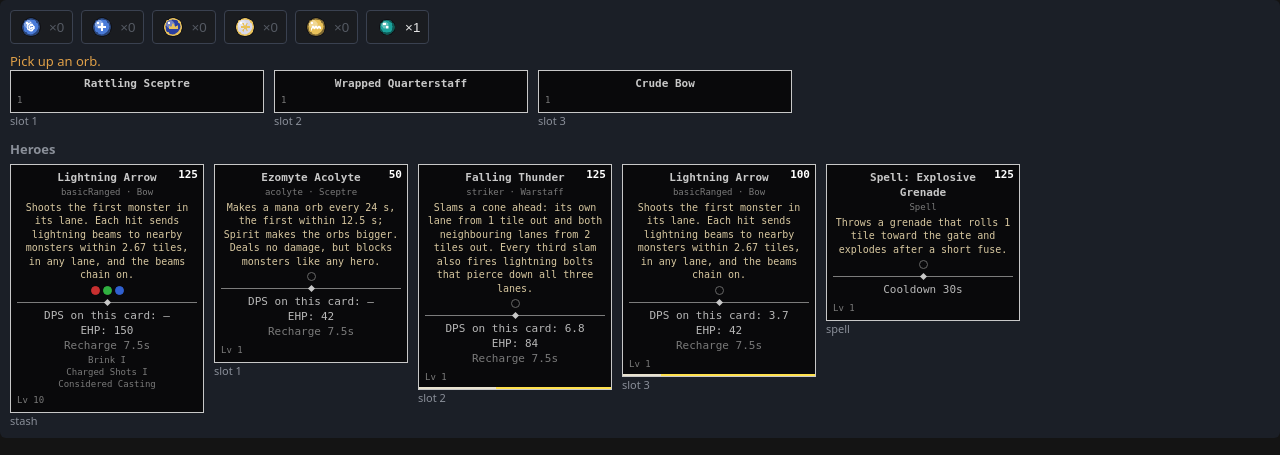
the Jeweller's Orb in the Craft tab (H §9.2) › a hero at the Lesser Jeweller's ceiling dims and refuses it
The width and height of the screenshot is (1280, 455).
Click the button with test id "orb-jeweller". click: (398, 27)
box: [366,10,429,44]
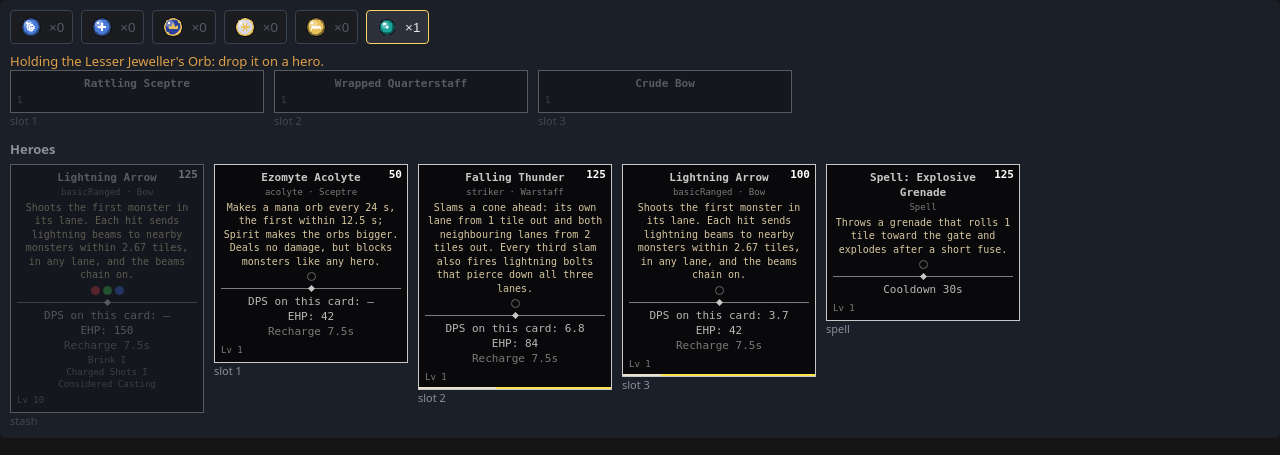
Click the element that starts with "Lightning Arrow". click: (107, 296)
box: [10,164,204,428]
Wait 1000 ms
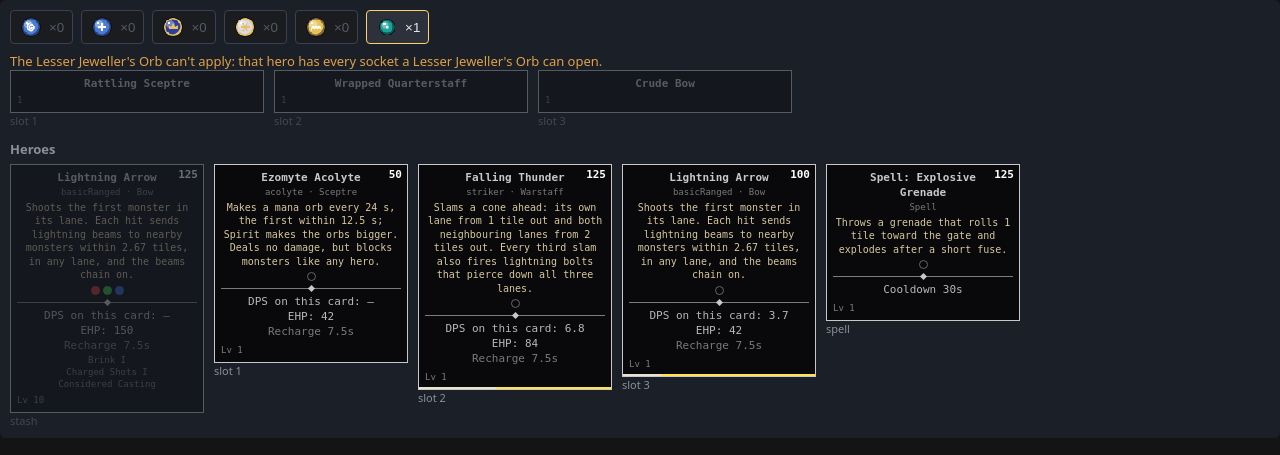
expect the text with test id "craft-status" shows "can't": met, box [10,52,602,70]
